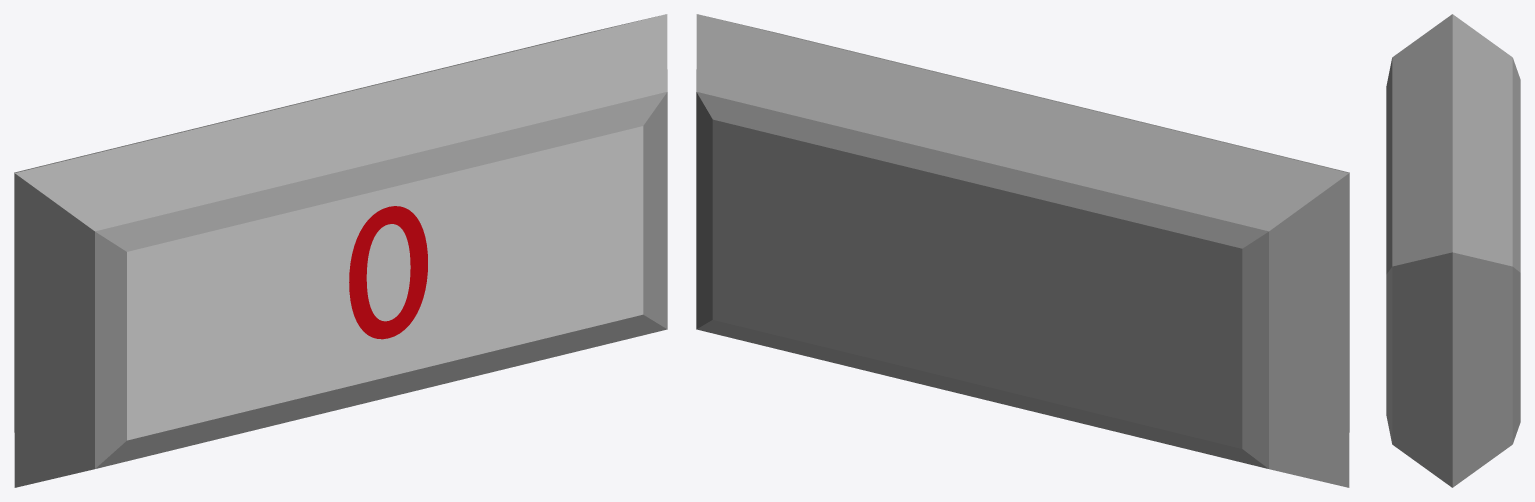
File: number0.fbx
The picture shows the model from 3 angles, left to right: view 1: azimuth 30°, elevation 25°; view 2: azimuth 150°, elevation 25°; view 3: azimuth 270°, elevation 25°; orthographic projection. The views are drawn at different scales.
Parts seen in each view (by area): view 1: Cube, Text; view 2: Cube; view 3: Cube.
Boxes of the visible parts, box(x1,y1,x2,y2) form: Cube: box(14, 14, 667, 487); Text: box(349, 206, 427, 339); Cube: box(696, 14, 1349, 487); Cube: box(1386, 14, 1520, 487).
Bounding box in the file's own units: 1735 × 800 × 437.
